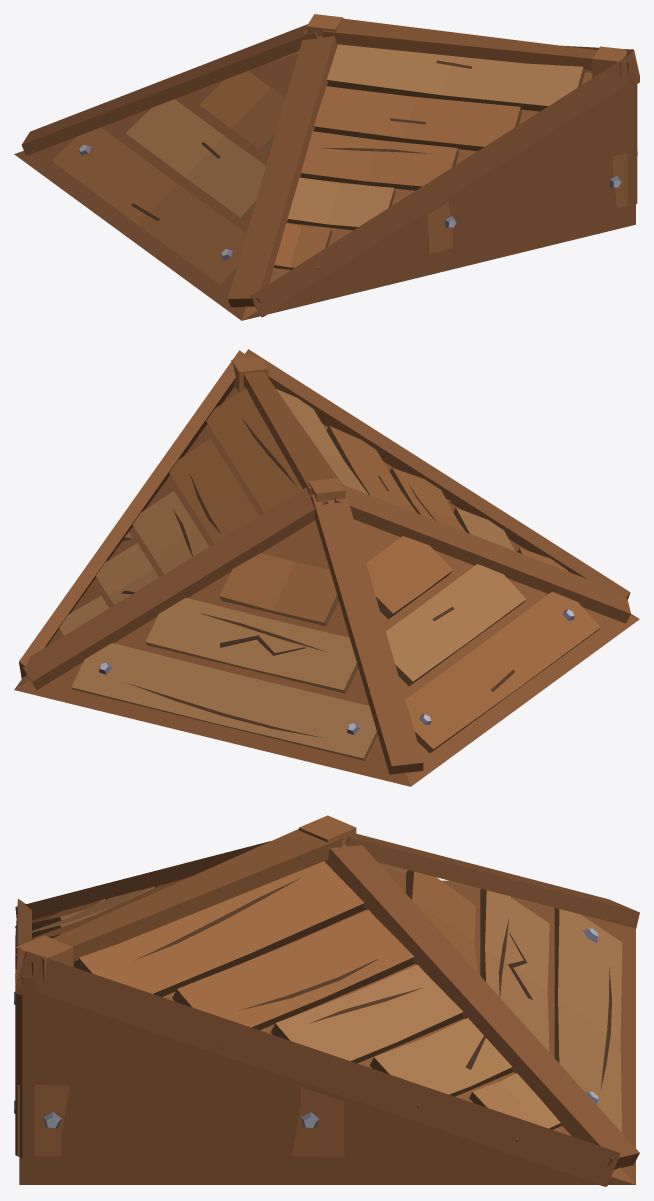
The model's file is cone_plank_peak_crack1.glb.
3 views of the same model, one above another, from view 1: azimuth 30°, elevation 25°; view 2: azimuth 150°, elevation 25°; view 3: azimuth 270°, elevation 25° (orthographic). The views are drawn at different scales.
Visible parts, largest first — view 1: Body; view 2: Body; view 3: Body.
Boxes of the visible parts, x1,y1,x2,y2 form: Body: (14,14,639,320); Body: (14,349,639,786); Body: (14,815,639,1186).
Bounding box in the file's own units: 4 × 1.65 × 4.
